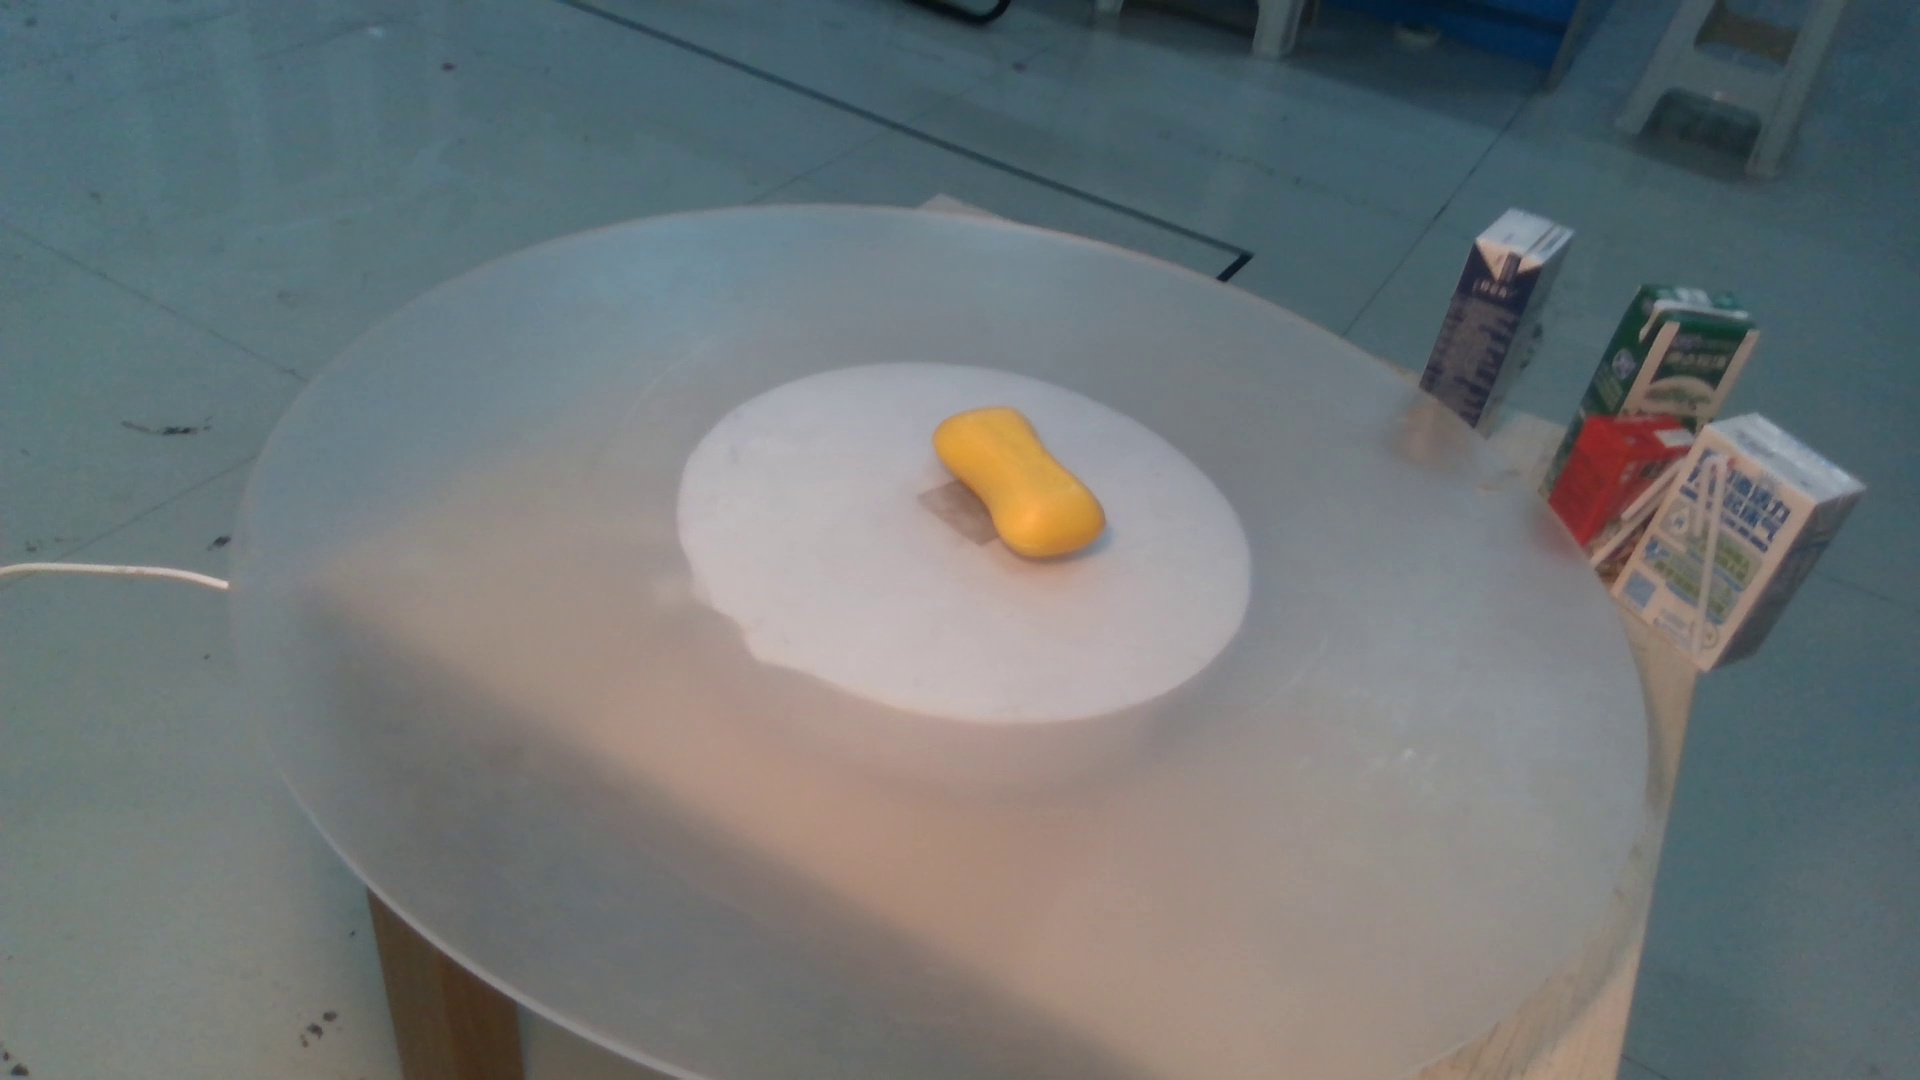CA003_1: (916, 400, 1160, 579)
